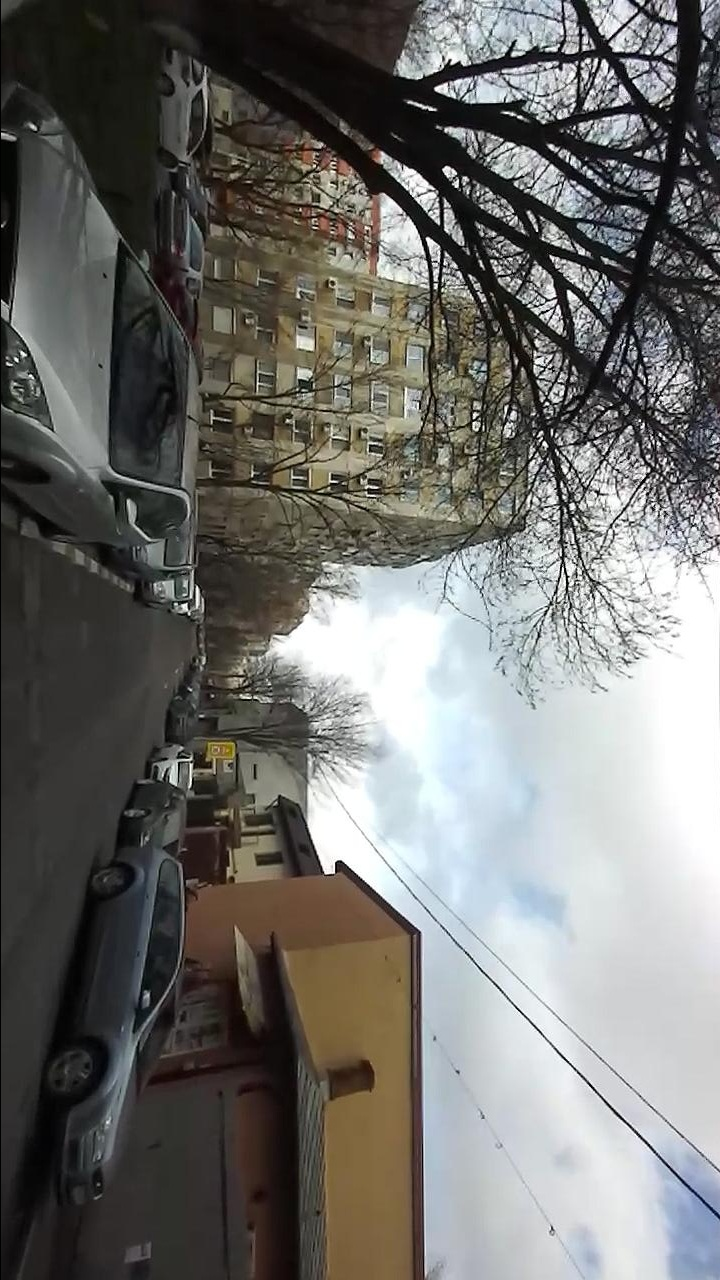pothole: (19, 628, 44, 703)
